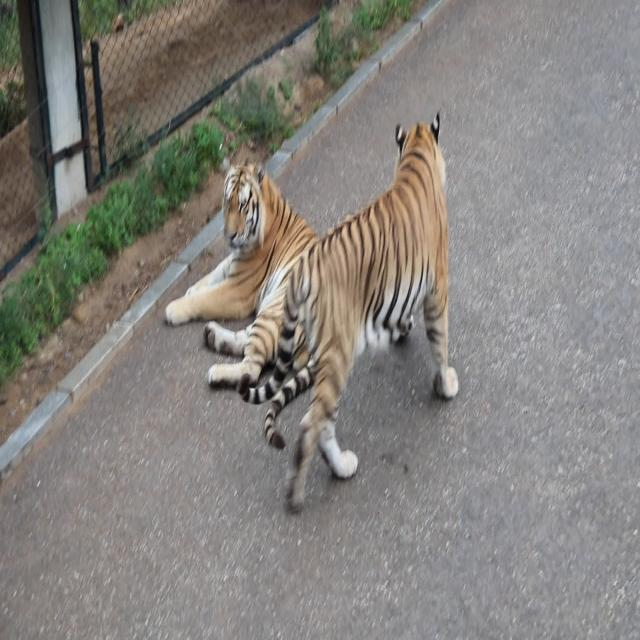Tiger: (244, 101, 488, 551), (154, 151, 322, 328)
